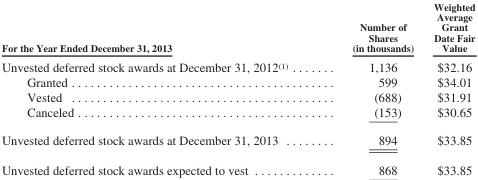table: (0, 0, 474, 177)
table column: (0, 0, 320, 177), (320, 0, 423, 177), (423, 0, 474, 177)
table column header: (0, 0, 474, 56)
table row: (0, 0, 474, 56), (0, 125, 474, 154), (0, 154, 474, 177), (0, 104, 474, 125), (0, 56, 474, 74), (0, 74, 474, 89), (0, 89, 474, 104)
